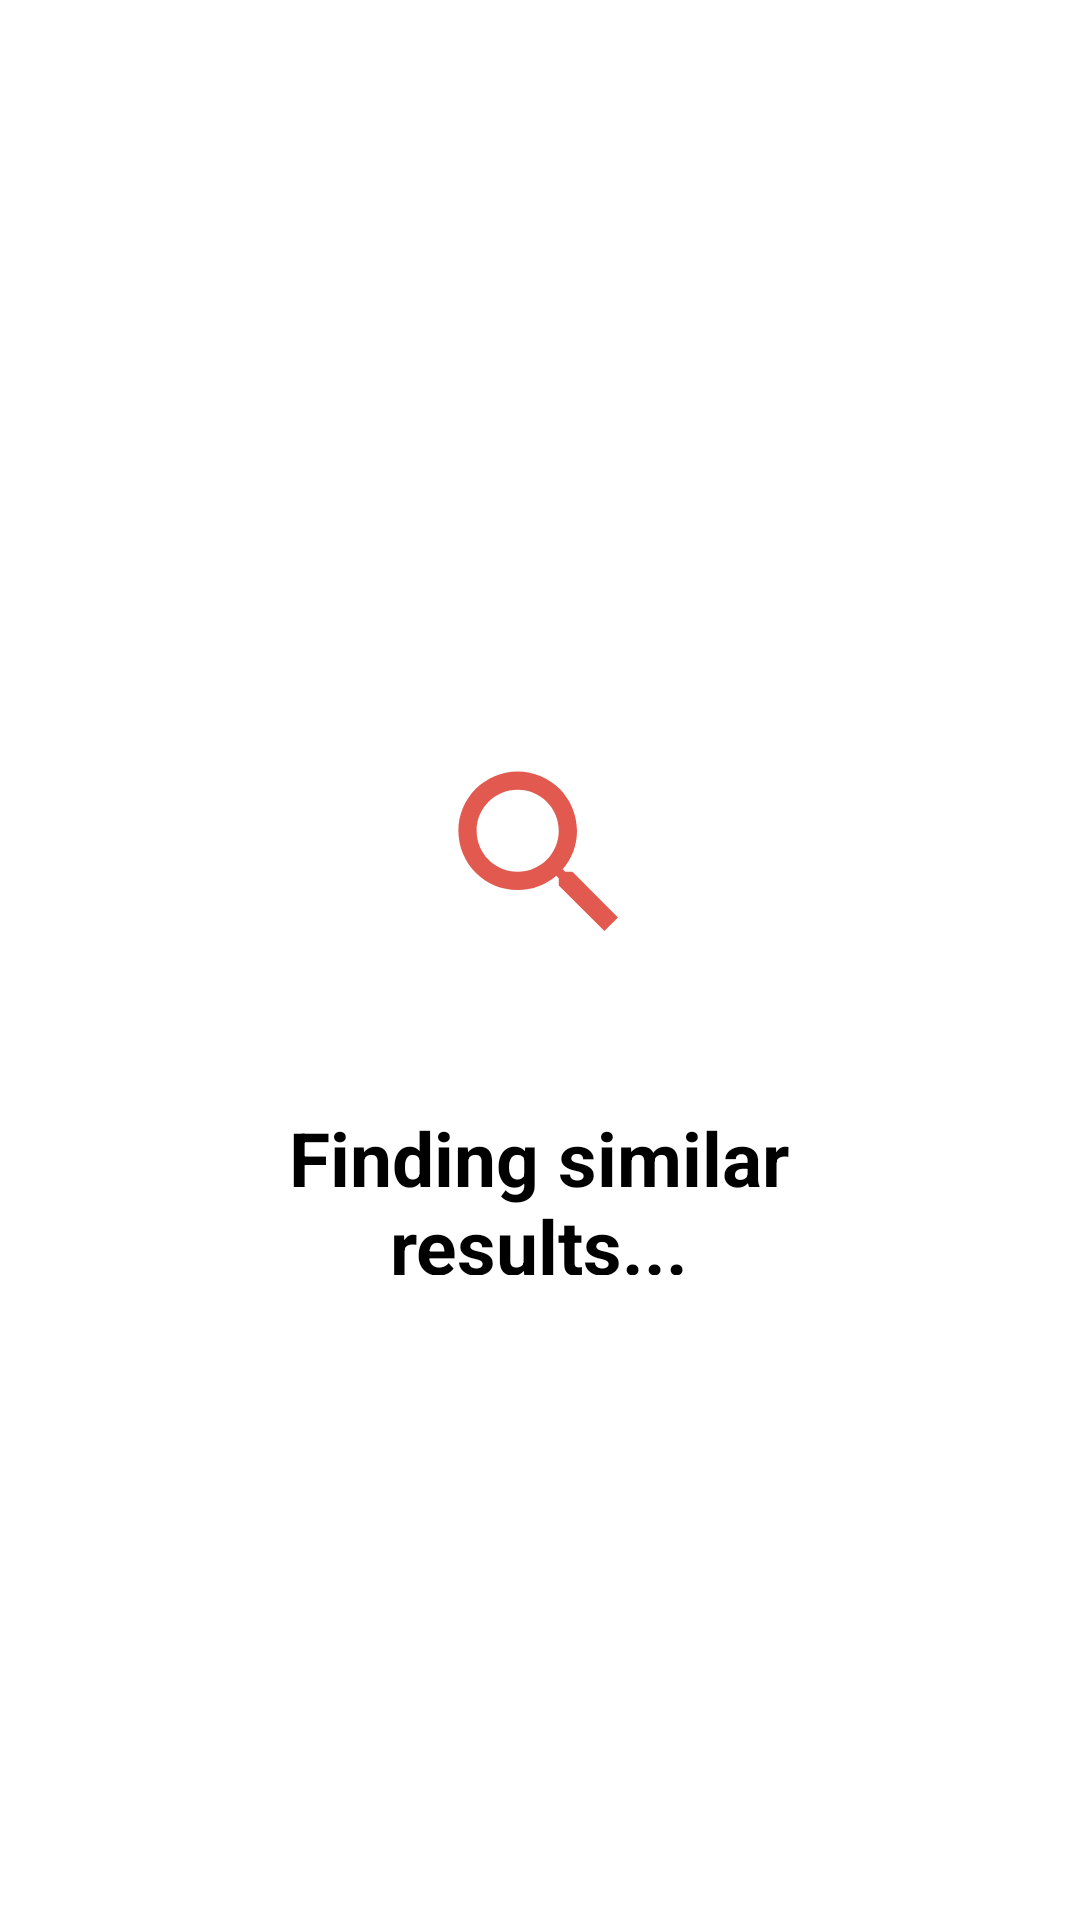

Screen size 1080w x 1920h. Icon name, then its box in pixels as bbox=(x1, y1, x2, y2):
search: bbox=(458, 771, 618, 931)
